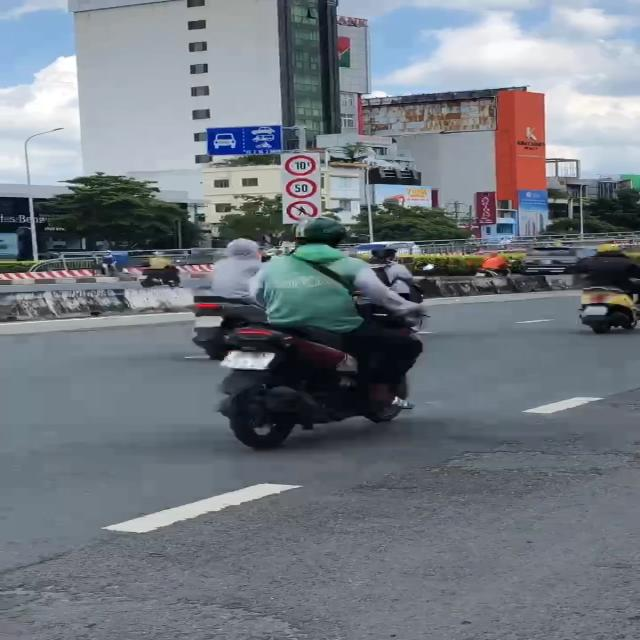Bien bao cam nguoi di bo: (286, 199, 318, 221)
Bien bao toc do toi da cho phep: (284, 176, 323, 200)
